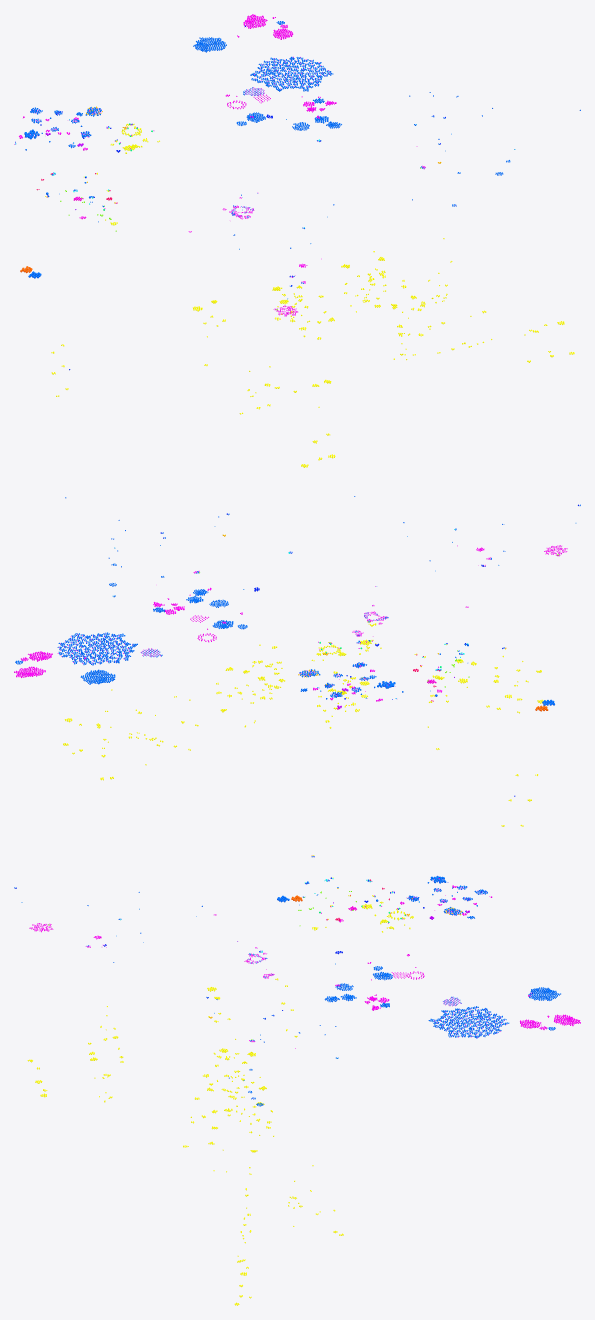
File: task-f4f776658-layout.gltf
The picture shows the model from 3 angles, top to bottom: view 1: azimuth 30°, elevation 25°; view 2: azimuth 150°, elevation 25°; view 3: azimuth 270°, elevation 25°; orthographic projection. The views are drawn at different scales.
Visible parts, largest first — view 1: normal_json_files, normal_wstl_files, normal_java_files; view 2: normal_json_files, normal_wstl_files, normal_java_files; view 3: normal_json_files, normal_wstl_files, normal_java_files.
Boxes of the visible parts, x1,y1,x2,y2 form: normal_json_files: (24,21,510,283); normal_wstl_files: (14,14,455,316); normal_java_files: (51,238,574,467); normal_json_files: (15,558,554,705); normal_wstl_files: (14,545,567,709); normal_java_files: (63,621,543,826); normal_json_files: (86,876,560,1106); normal_wstl_files: (29,878,580,1048); normal_java_files: (27,978,343,1305).
Size of the model in its own units: 961 by 461 by 966.
